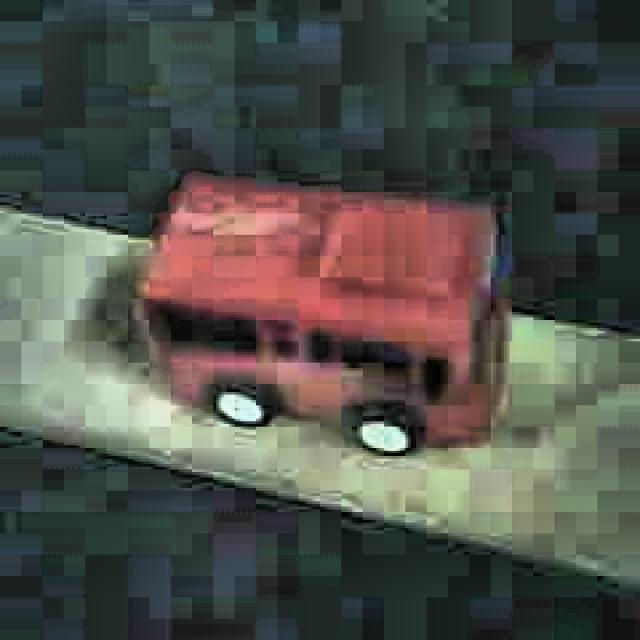bus: (140, 172, 511, 460)
